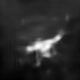plane: (23, 29, 68, 67)
